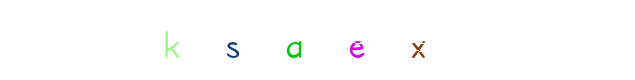A: (277, 0, 357, 80)
E: (286, 0, 366, 80)
K: (178, 0, 258, 80)
S: (254, 0, 334, 80)
X: (316, 0, 396, 80)
